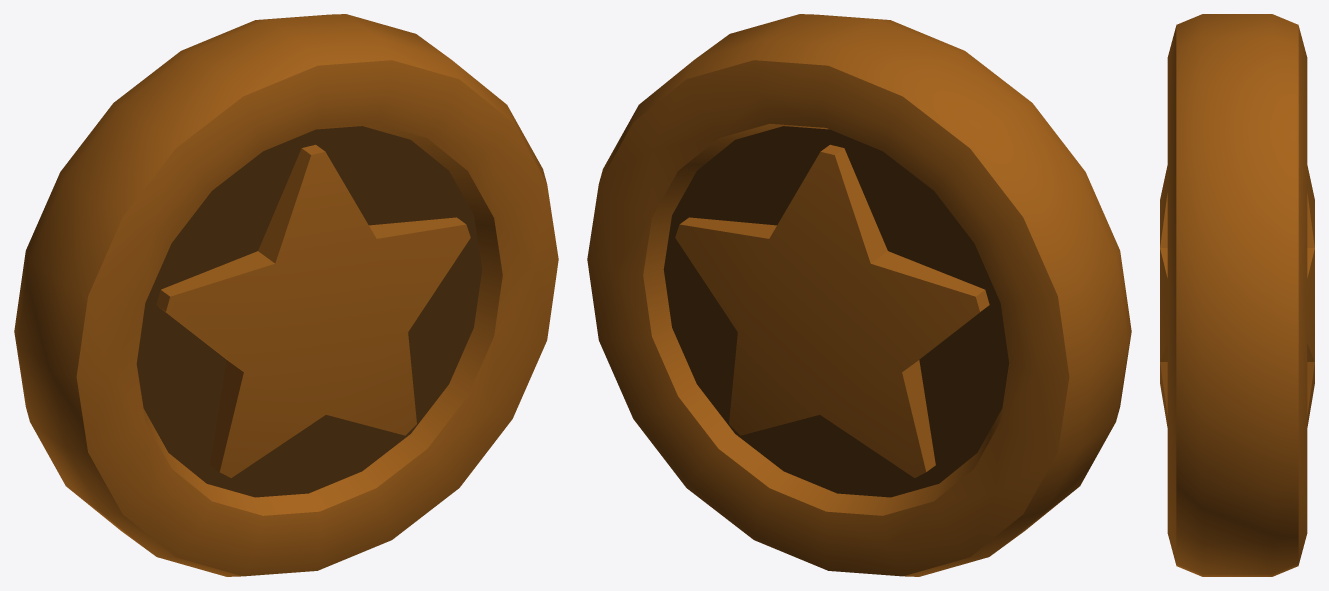
The model's file is Coin.fbx.
3 renders of one model, left to right at view 1: azimuth 30°, elevation 25°; view 2: azimuth 150°, elevation 25°; view 3: azimuth 270°, elevation 25°, orthographic. The views are drawn at different scales.
Visible parts, largest first — view 1: Coin; view 2: Coin; view 3: Coin.
Boxes of the visible parts, bbox=[...] form: Coin: bbox=[14, 14, 558, 576]; Coin: bbox=[587, 14, 1131, 576]; Coin: bbox=[1160, 14, 1314, 576].
Size of the model in its own units: 192 by 192 by 52.34.
